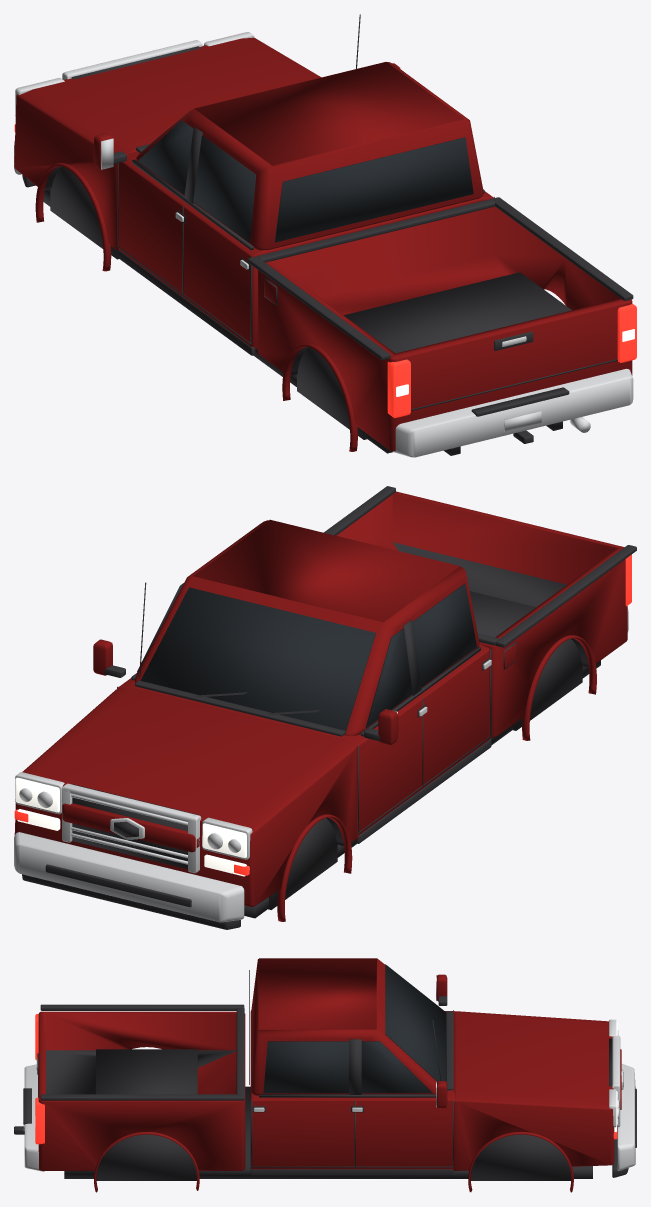
Rendered from car_corvane_stockman_99.glb.
The picture shows the model from 3 angles, top to bottom: view 1: azimuth 30°, elevation 25°; view 2: azimuth 150°, elevation 25°; view 3: azimuth 270°, elevation 25°; orthographic projection. The views are drawn at different scales.
Visible parts, largest first — view 1: car_corvane_stockman_99; view 2: car_corvane_stockman_99; view 3: car_corvane_stockman_99.
Part boxes in pixels (left/top/right/bottom): car_corvane_stockman_99: left=14, top=14, right=636, bottom=457; car_corvane_stockman_99: left=14, top=486, right=636, bottom=929; car_corvane_stockman_99: left=14, top=958, right=636, bottom=1192.
Size of the model in its own units: 2.48 by 1.71 by 5.83.
